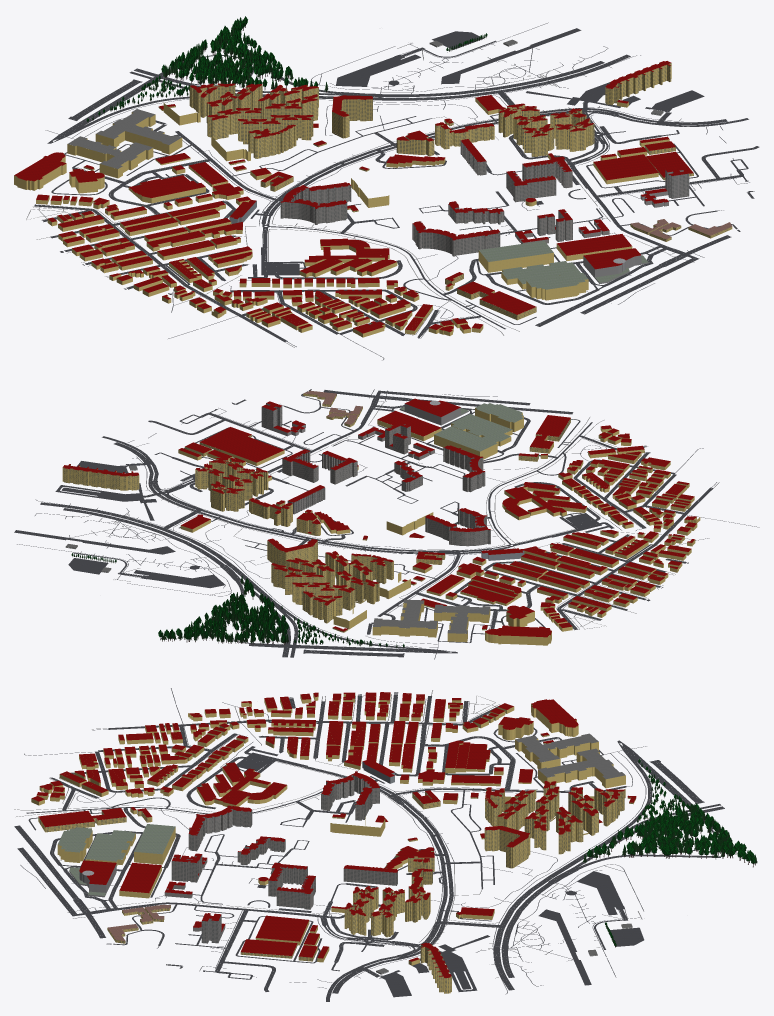
Rendered from osm3d.glb.
3 renders of one model, top to bottom at view 1: azimuth 30°, elevation 25°; view 2: azimuth 150°, elevation 25°; view 3: azimuth 270°, elevation 25°, orthographic. The views are drawn at different scales.
Visible parts, largest first — view 1: Plaster002, RoofingTiles010, ASPHALT, Windows, Concrete034.002, TextureAtlas 26808521, Concrete034.001, Windows.002, RoofingTiles010.001, RoofingTiles010.002, Concrete034, RoofingTiles010.003 (+1 smaller); view 2: Plaster002, RoofingTiles010, ASPHALT, Windows, Concrete034.002, TextureAtlas 26808521, Concrete034.001, Windows.002, RoofingTiles010.001, Concrete034, RoofingTiles010.002, Concrete034.003 (+1 smaller); view 3: RoofingTiles010, ASPHALT, Plaster002, Concrete034.002, Windows, TextureAtlas 26808521, Concrete034.001, Windows.002, RoofingTiles010.001, RoofingTiles010.002, RoofingTiles010.003, Concrete034.
Part boxes in pixels (x1,y1,x2,y2): Plaster002: (14,63,732,337); RoofingTiles010: (14,61,693,333); ASPHALT: (34,22,759,360); Windows: (84,63,731,319); Concrete034.002: (280,141,609,256); TextureAtlas 26808521: (87,16,487,123); Concrete034.001: (26,39,741,347); Windows.002: (281,141,572,255); RoofingTiles010.001: (479,240,587,289); RoofingTiles010.002: (583,248,647,282); Concrete034: (640,170,689,207); RoofingTiles010.003: (631,219,732,239); Plaster002: (62,393,700,645); RoofingTiles010: (63,401,696,637); ASPHALT: (14,389,759,659); Windows: (63,393,570,631); Concrete034.002: (282,424,490,546); TextureAtlas 26808521: (71,553,404,648); Concrete034.001: (65,389,719,633); Windows.002: (282,424,490,545); RoofingTiles010.001: (434,403,523,451); Concrete034: (261,403,305,436); RoofingTiles010.002: (400,398,468,416); Concrete034.003: (399,404,468,425); RoofingTiles010: (32,692,636,977); ASPHALT: (14,688,724,1001); Plaster002: (31,693,636,993); Concrete034.002: (164,774,397,909); Windows: (40,734,635,993); TextureAtlas 26808521: (583,759,757,947); Concrete034.001: (14,690,641,977); Windows.002: (172,772,397,909); RoofingTiles010.001: (58,824,175,861); RoofingTiles010.002: (69,860,116,895); RoofingTiles010.003: (108,904,170,941); Concrete034: (193,914,225,943).
Bounding box in the file's own units: 1285 × 42.57 × 1291.
26 materials, 26 textured.
